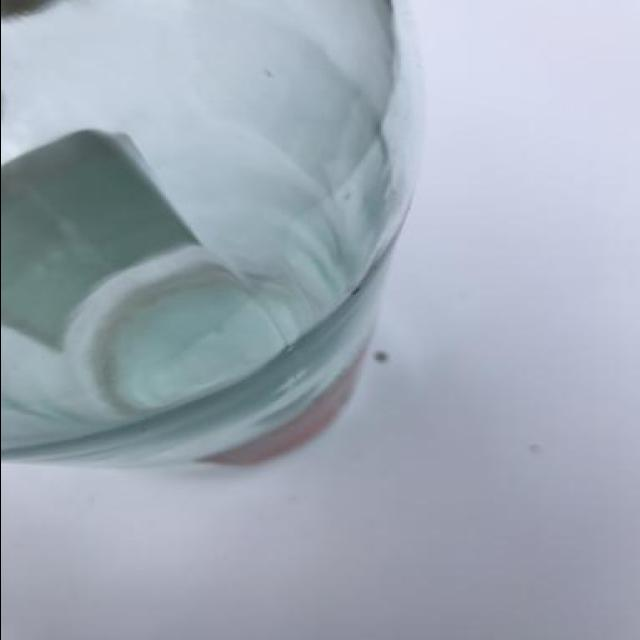litter: (3, 1, 437, 472)
